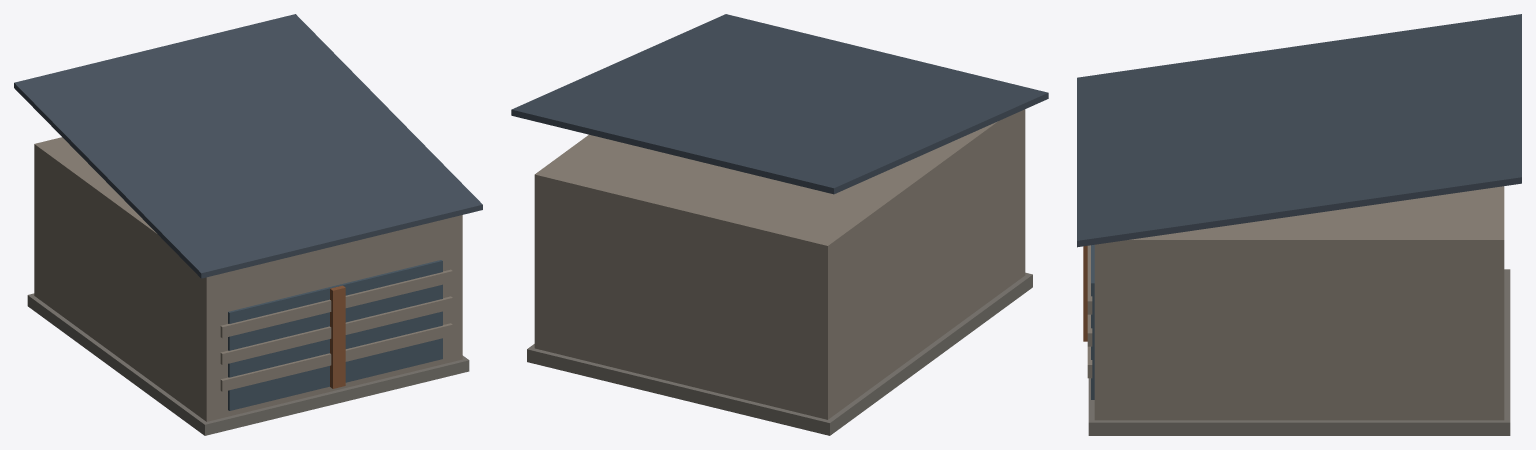
Rendered from shop_empty_b.fbx.
3 views of the same model, side by side, from view 1: azimuth 30°, elevation 25°; view 2: azimuth 150°, elevation 25°; view 3: azimuth 270°, elevation 25° (orthographic). The views are drawn at different scales.
Visible parts, largest first — view 1: shop_empty_b; view 2: shop_empty_b; view 3: shop_empty_b.
Boxes of the visible parts, x1,y1,x2,y2 form: shop_empty_b: (14,14,482,435); shop_empty_b: (511,14,1048,435); shop_empty_b: (1077,14,1521,435).
Size of the model in its own units: 6.6 by 4.97 by 7.6.
Materials: 1 (1 with a texture image).
